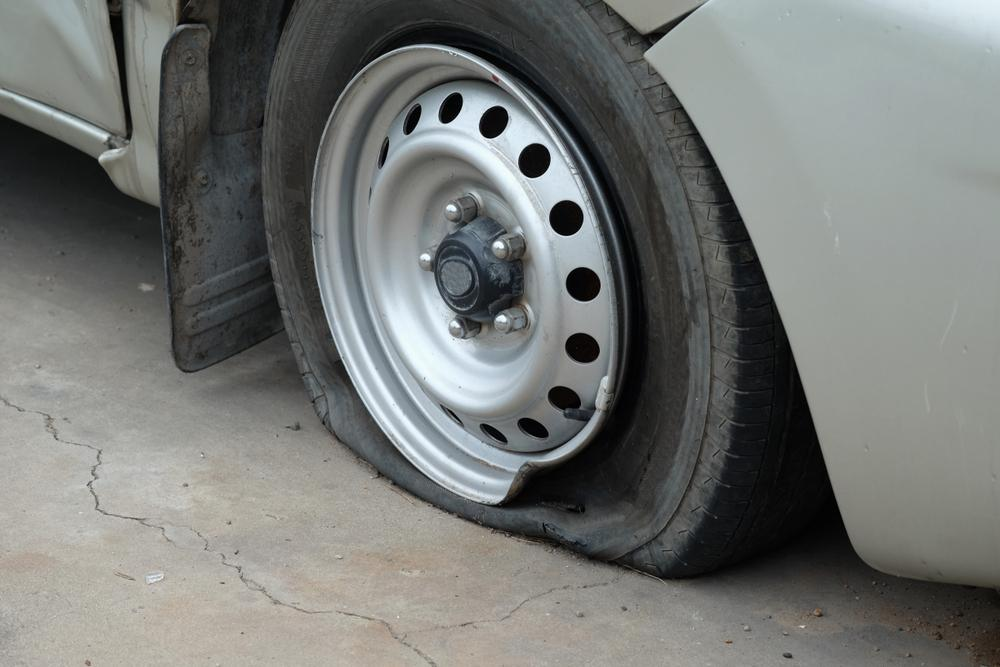tire flat: (264, 0, 790, 578)
